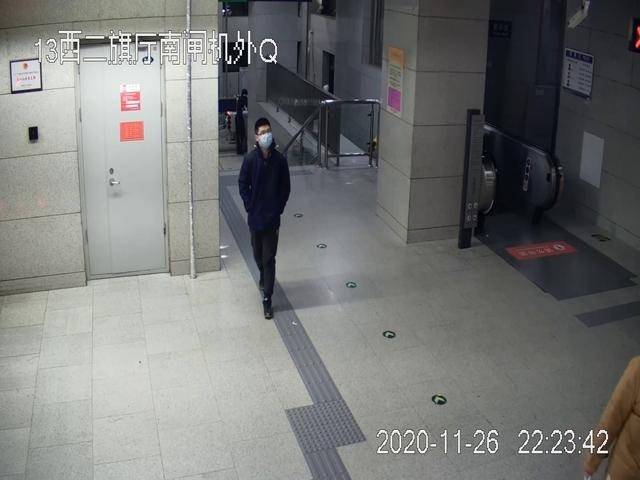person: (236, 117, 291, 321)
